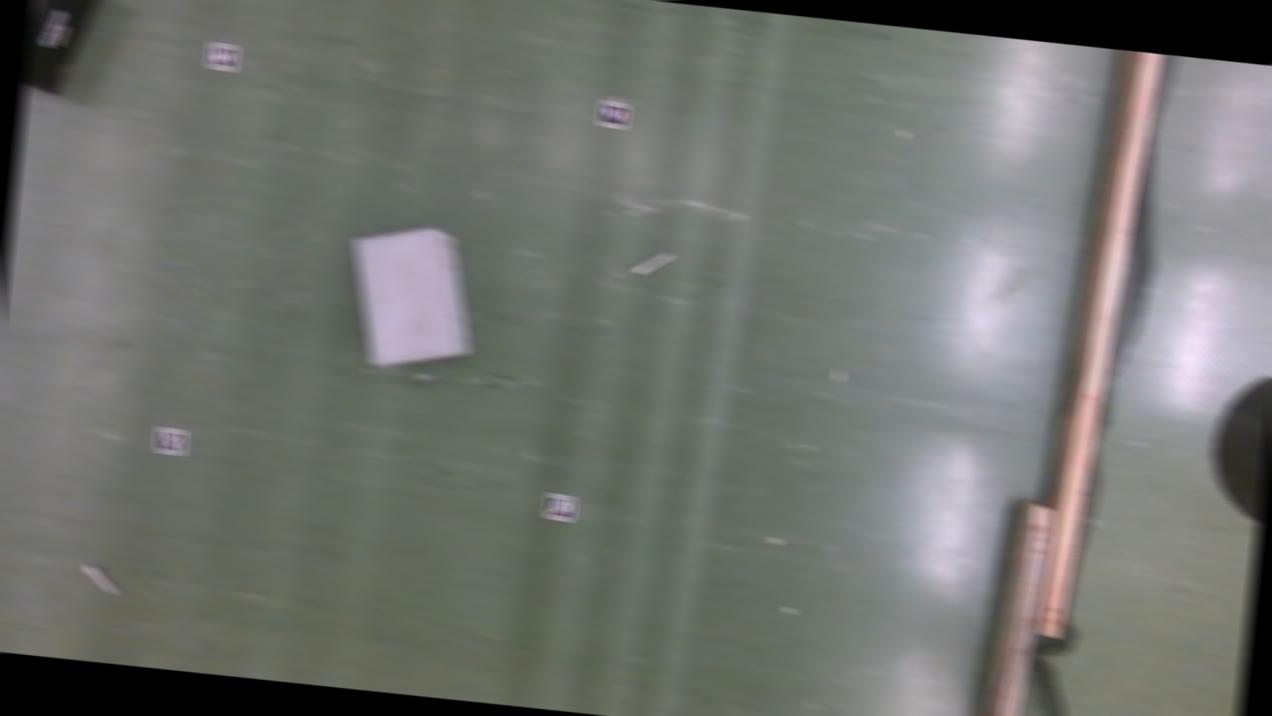probes: (636, 247, 673, 278), (84, 563, 120, 594)
rako: (341, 216, 483, 374), (23, 0, 106, 96)
